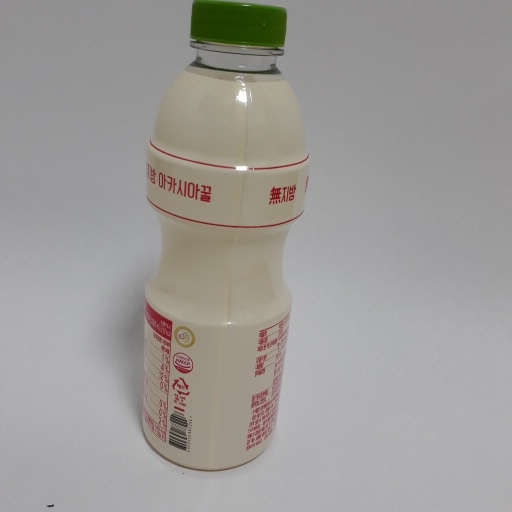Plastic_0: (141, 1, 312, 474)
